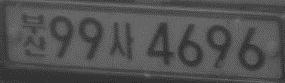4: (145, 22, 174, 65)
6: (237, 25, 265, 71), (176, 22, 203, 67)
9: (77, 16, 105, 61), (205, 23, 233, 68), (49, 15, 74, 58)
부산_V: (21, 12, 47, 58)
사: (109, 22, 136, 60)
